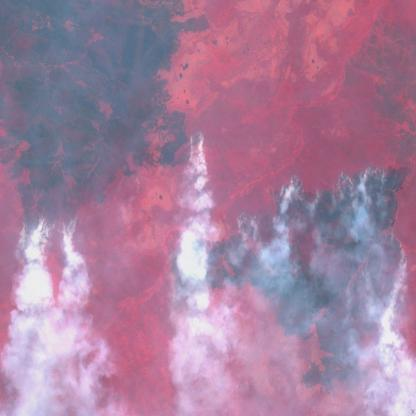fire: (244, 150, 412, 242), (344, 241, 412, 335), (168, 220, 244, 299), (11, 206, 81, 262), (164, 120, 216, 171)
